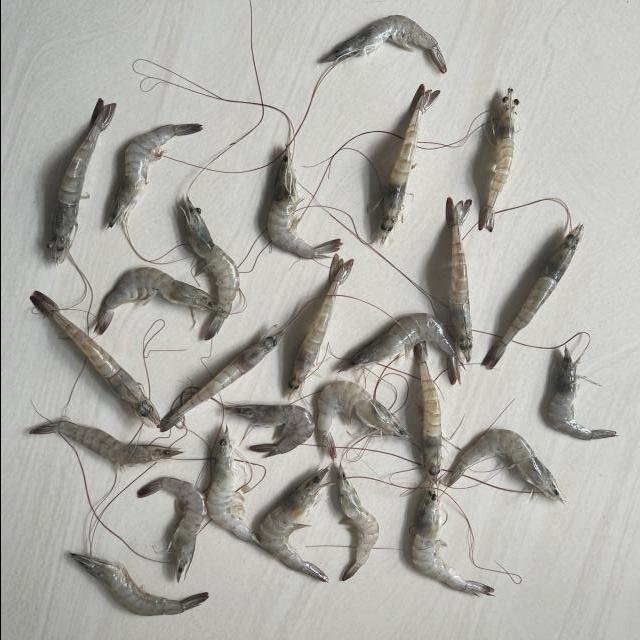shrimp: (28, 291, 159, 428), (482, 225, 584, 370), (157, 326, 283, 432), (45, 98, 114, 264), (378, 84, 439, 244), (107, 124, 201, 227), (287, 254, 353, 398), (93, 267, 225, 335), (411, 490, 494, 598), (68, 554, 207, 618), (447, 430, 565, 504), (266, 145, 341, 259), (339, 313, 459, 384), (258, 469, 328, 583), (316, 381, 412, 460), (318, 14, 446, 72), (136, 478, 205, 583), (28, 420, 181, 467), (180, 197, 238, 313), (205, 429, 261, 549), (548, 348, 617, 441), (478, 87, 519, 231), (224, 405, 313, 458), (337, 467, 378, 582), (445, 198, 472, 365), (413, 342, 441, 482), (204, 313, 225, 340)
